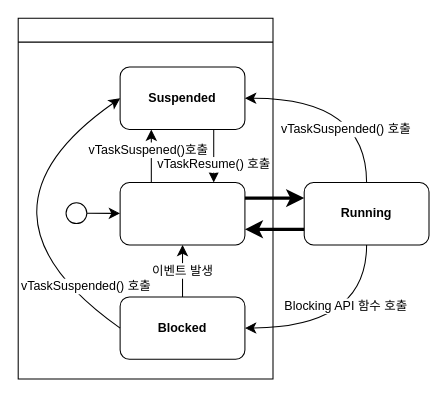
Image size: 447x397. Some labels were removed from this diagram. The shapes that lost their labels are listed below. From the top down, each one's box as (x1, y1, x2, y2) in pixels, then its label:
(17, 17, 273, 379): Not Running
(119, 181, 245, 245): Ready
